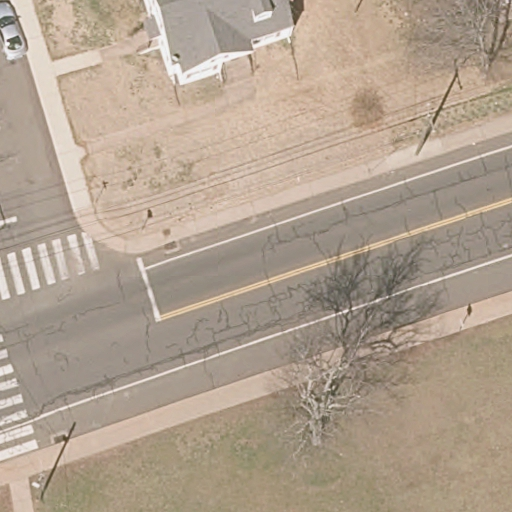DT: (414, 101, 439, 156)
